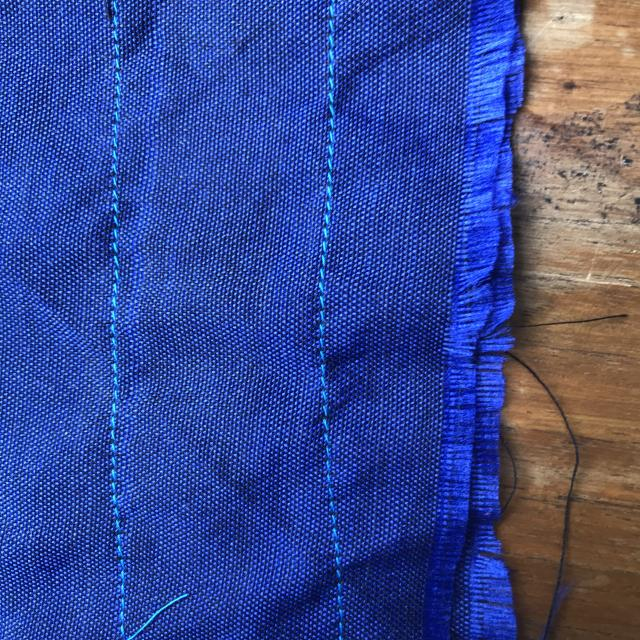good: (96, 139, 144, 298), (311, 170, 348, 341)
